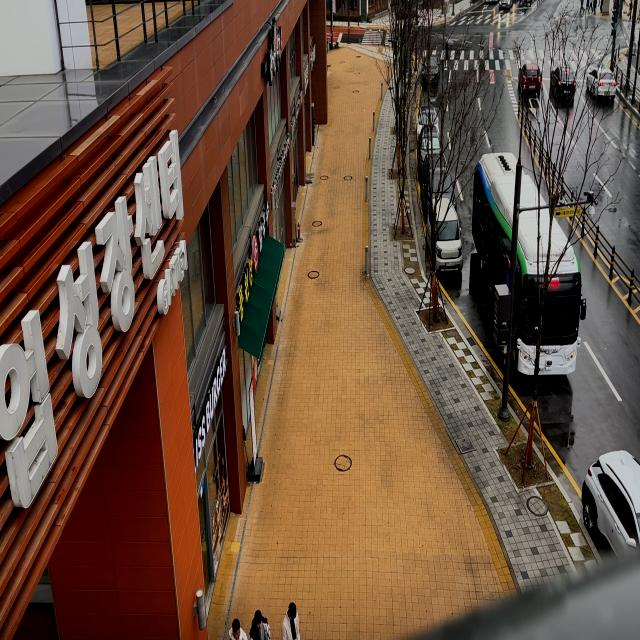Bus: (472, 148, 586, 390)
Car: (561, 436, 640, 566), (424, 191, 469, 278), (578, 56, 622, 113), (422, 145, 457, 213), (545, 52, 578, 105), (515, 53, 548, 102), (418, 43, 452, 87), (417, 98, 447, 140), (416, 121, 444, 163)
